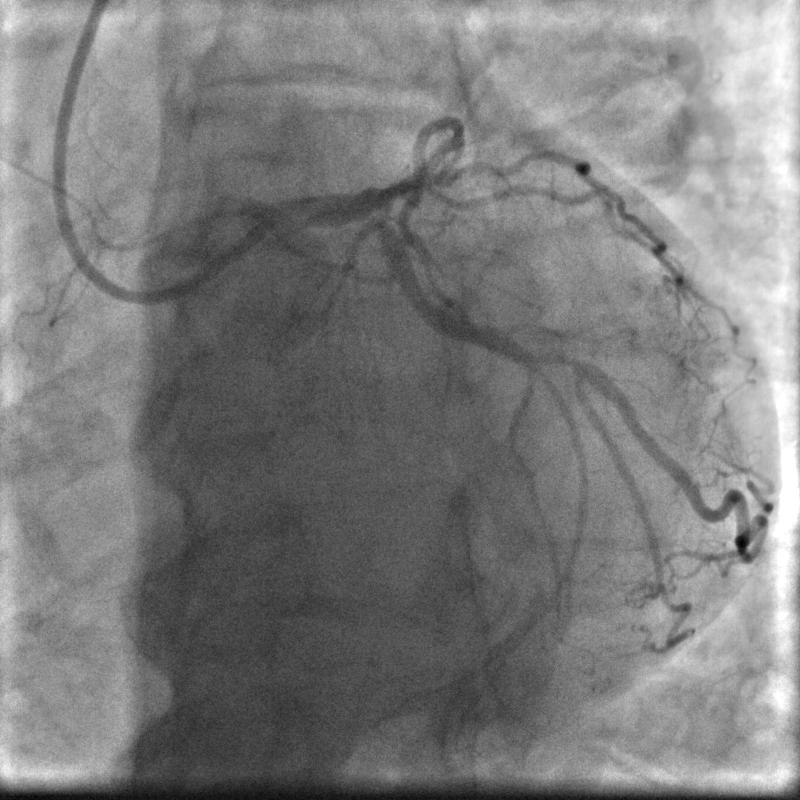Stenosis: (525, 344, 580, 372)
